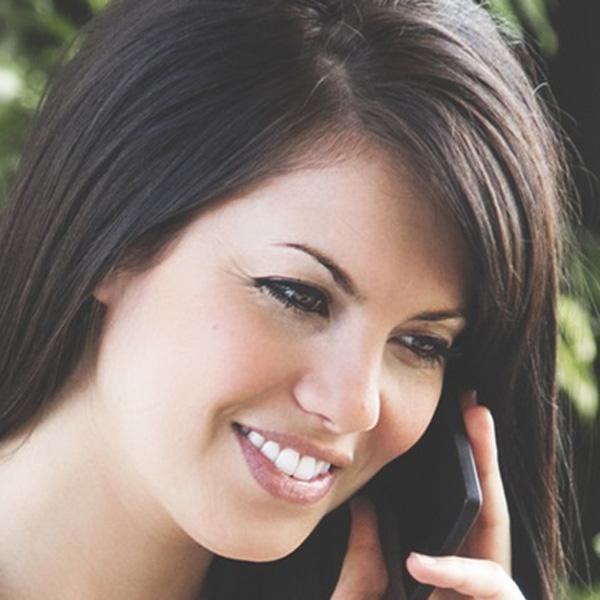Eyes: (249, 261, 335, 327), (384, 312, 454, 374)
